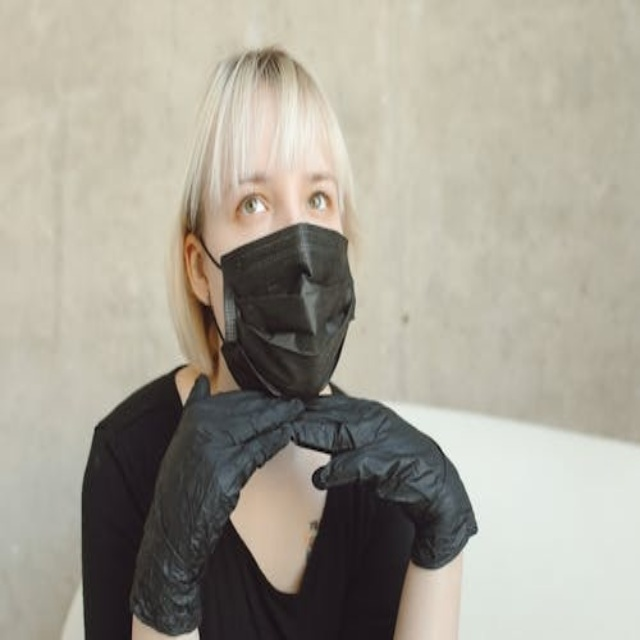Guantes: (127, 373, 319, 635), (284, 388, 479, 571)
Mascara: (208, 223, 355, 400)
Sin_gafas: (237, 192, 270, 218), (306, 189, 332, 213)
